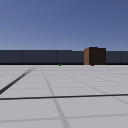green_cube: (58, 63, 61, 66)
obstacle: (84, 47, 105, 65)
red_cube: (90, 62, 95, 67)
